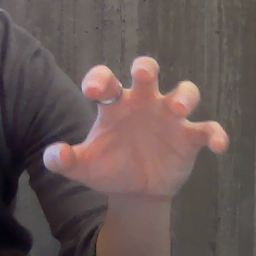AE: (40, 53, 231, 195)
